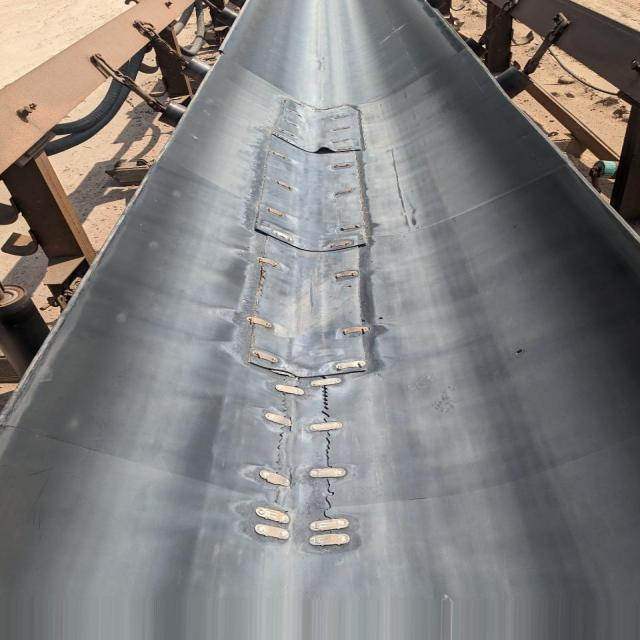patch work: (238, 92, 380, 550)
